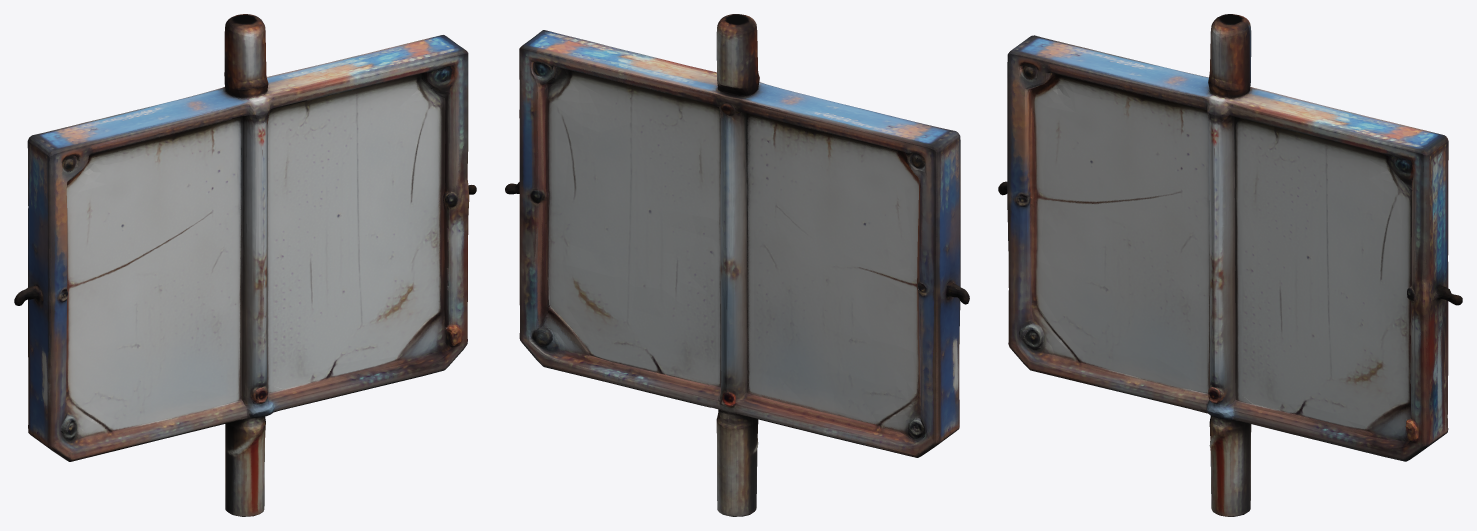
The model's file is street_sign_42_20251230_114033_20251230_115826.glb.
The picture shows the model from 3 angles, left to right: view 1: azimuth 30°, elevation 25°; view 2: azimuth 150°, elevation 25°; view 3: azimuth 330°, elevation 25°; orthographic projection.
Visible parts, largest first — view 1: world; view 2: world; view 3: world.
Part boxes in pixels (x1=…): world: x1=14, y1=14, x2=476, y2=516; world: x1=505, y1=14, x2=969, y2=516; world: x1=998, y1=14, x2=1462, y2=516.
Bounding box in the file's own units: 0.9896 × 1 × 0.105.
Materials: 1 (1 with a texture image).
